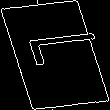L_E: (8, 35, 102, 75)
